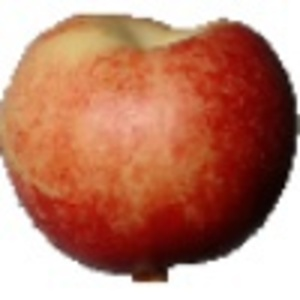nectarina: (1, 11, 300, 287)
